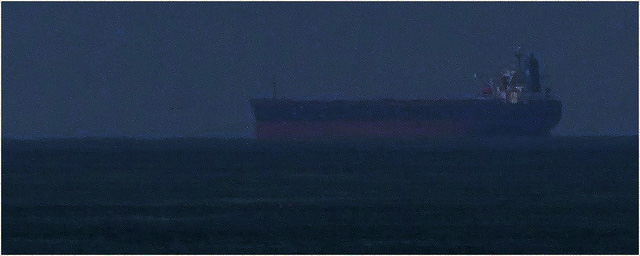bulk carrier: (250, 42, 568, 141)
